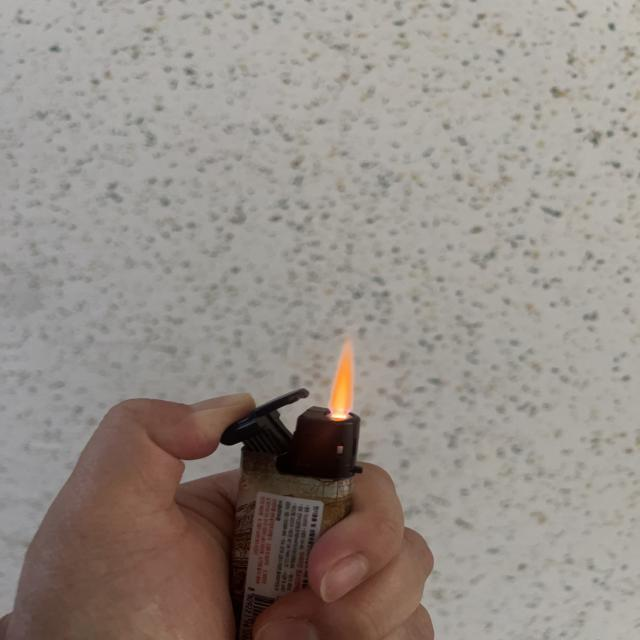fire: (328, 341, 356, 414)
